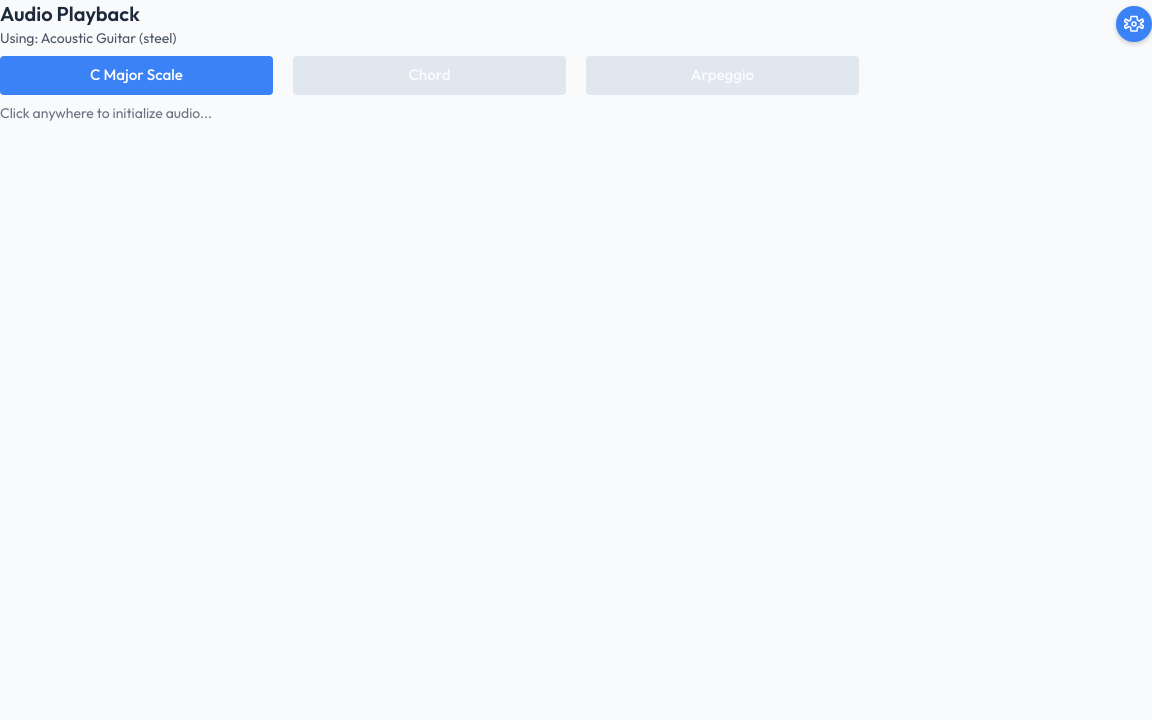
Test: AudioPlayback Component › settings toggle has correct ARIA attributes
# Click to open
Click the button named "Sound Settings". click: click(1134, 24)
box: left=1116, top=6, right=1151, bottom=42
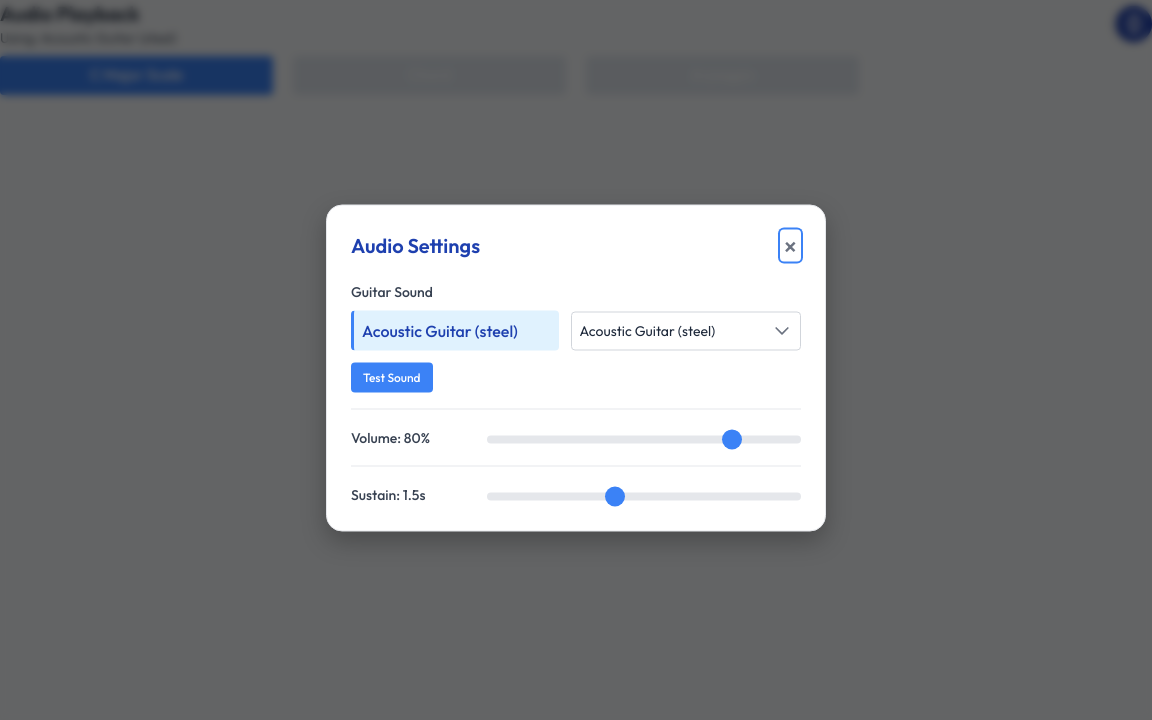
Check: the button named "Sound Settings" is expanded, box left=1116, top=6, right=1151, bottom=42
Check: the dialog is shown, box left=326, top=204, right=826, bottom=532
